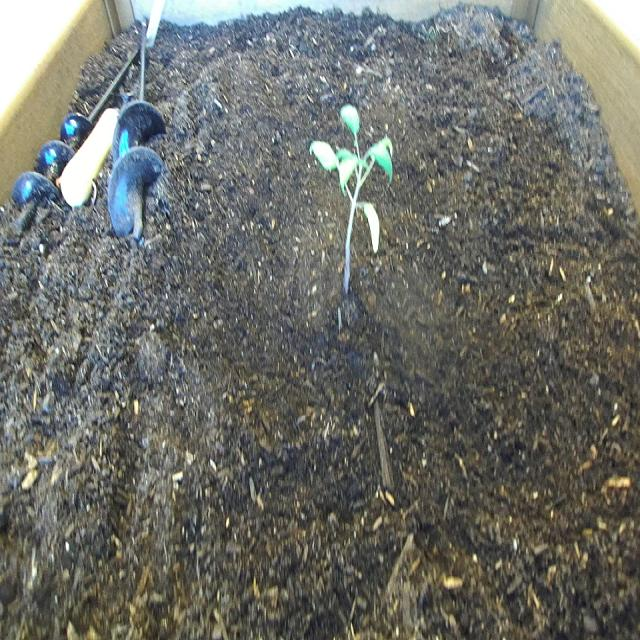Healthy: (307, 96, 398, 302)
